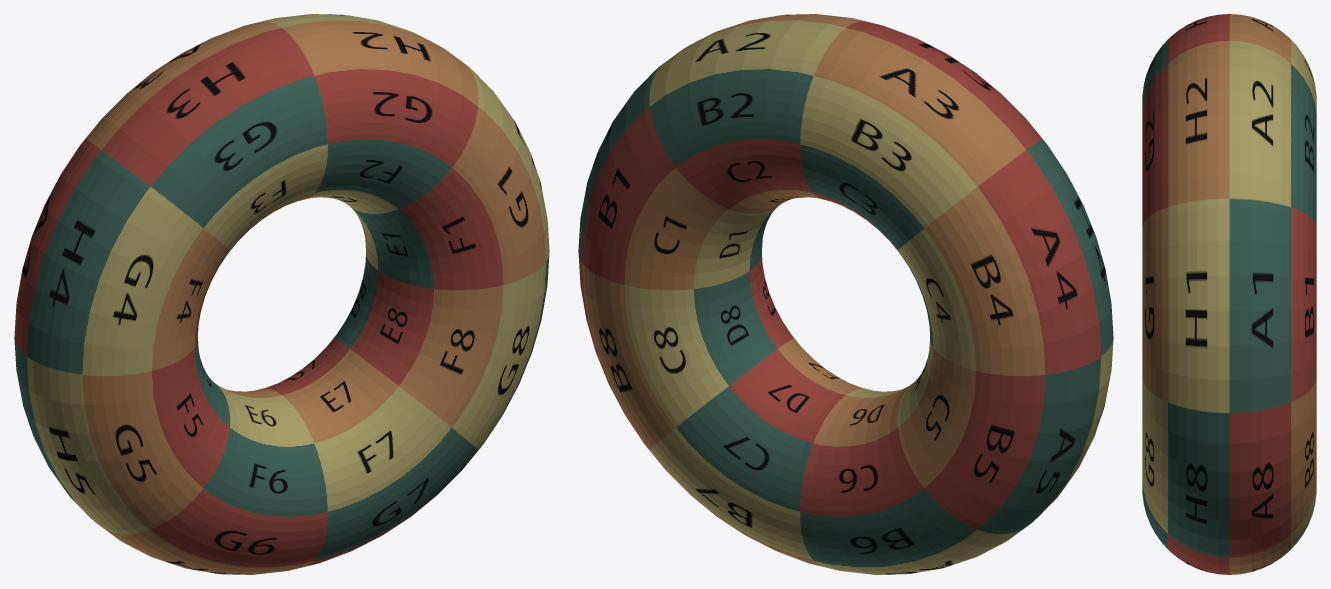
The model's file is texture_torus_R12_r23.glb.
3 views of the same model, side by side, from view 1: azimuth 30°, elevation 25°; view 2: azimuth 150°, elevation 25°; view 3: azimuth 270°, elevation 25° (orthographic). The views are drawn at different scales.
Visible parts, largest first — view 1: world; view 2: world; view 3: world.
Boxes of the visible parts, x1,y1,x2,y2 form: world: (14, 14, 549, 574); world: (578, 14, 1113, 574); world: (1142, 14, 1316, 574).
Size of the model in its own units: 26.13 by 26.08 by 8.12.
1 material, 1 textured.
